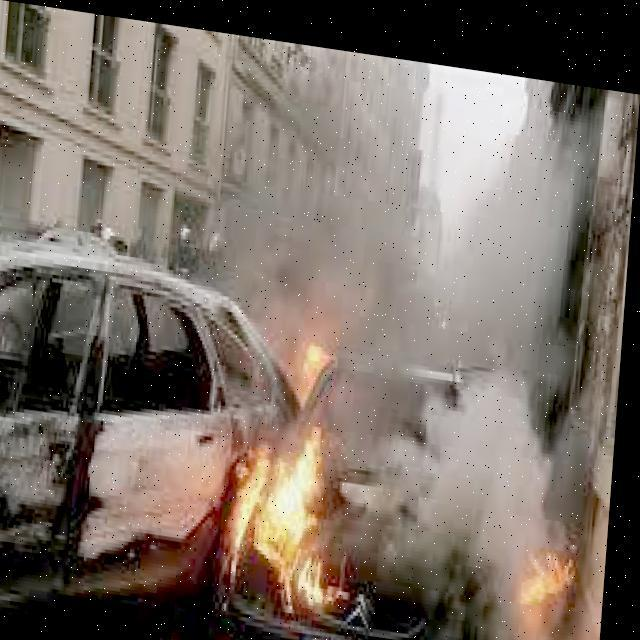Fire: (212, 398, 378, 624), (516, 505, 594, 604), (283, 314, 349, 404)
